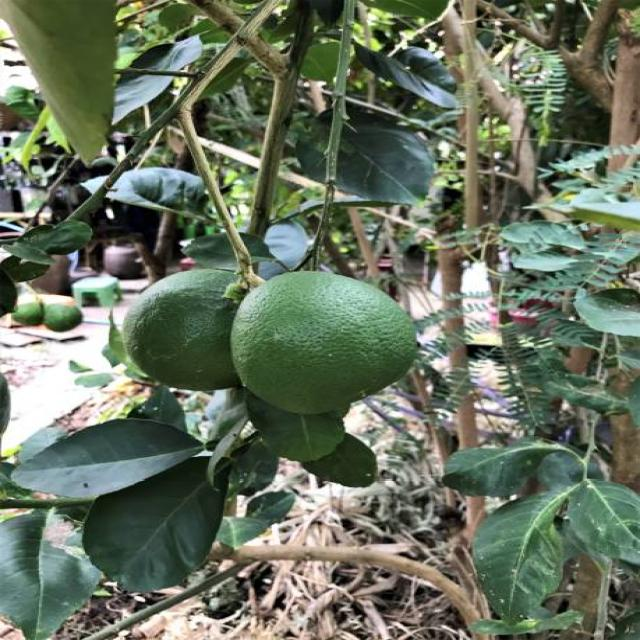Unripe: (234, 268, 419, 415)
